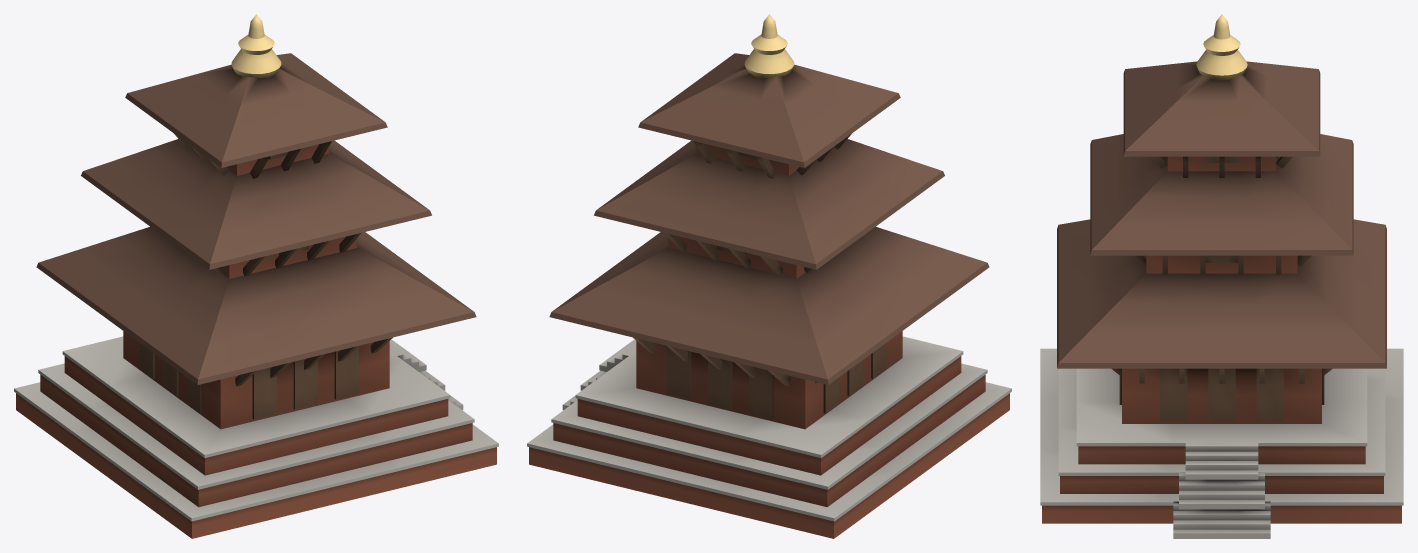
The model's file is hari-shankar.glb.
The picture shows the model from 3 angles, left to right: view 1: azimuth 30°, elevation 25°; view 2: azimuth 150°, elevation 25°; view 3: azimuth 270°, elevation 25°; orthographic projection. The views are drawn at different scales.
Parts seen in each view (by area): view 1: model-tile, model-brick, model-wood, model-gold; view 2: model-tile, model-brick, model-wood, model-gold; view 3: model-tile, model-brick, model-wood, model-gold.
Boxes of the visible parts, bbox=[...] form: model-tile: bbox=[36, 53, 476, 384]; model-brick: bbox=[14, 144, 498, 538]; model-wood: bbox=[139, 134, 392, 419]; model-gold: bbox=[231, 14, 281, 78]; model-tile: bbox=[549, 53, 989, 384]; model-brick: bbox=[527, 144, 1011, 538]; model-wood: bbox=[633, 134, 886, 419]; model-gold: bbox=[744, 14, 794, 78]; model-tile: bbox=[1057, 61, 1386, 368]; model-brick: bbox=[1040, 156, 1403, 538]; model-wood: bbox=[1111, 156, 1332, 421]; model-gold: bbox=[1196, 14, 1247, 80].
Size of the model in its own units: 13.15 by 15.8 by 12.
4 materials, 4 textured.
